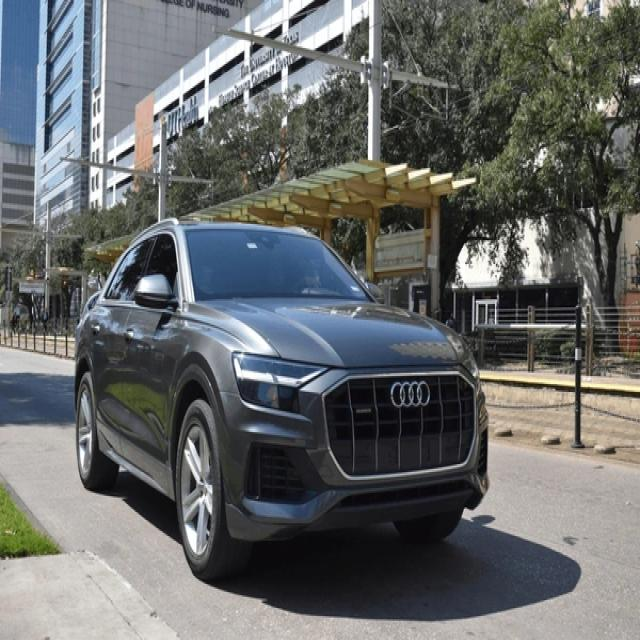audi: (389, 379, 432, 416)
